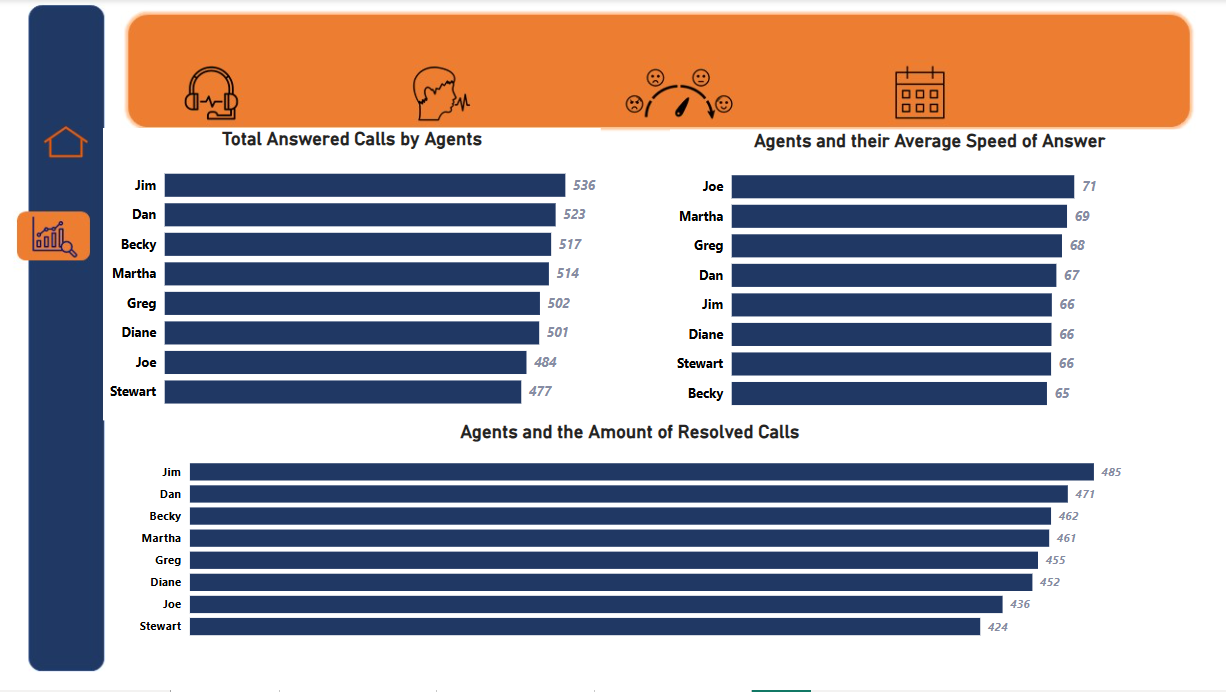

This screenshot's page, from the dashboard's own definition file:
{"tool":"powerbi","page":{"name":" Dashboard1","canvas":[1280,720],"ordinal":1},"visuals":[{"type":"barChart","title":"Total Answered Calls by Agents","fields":{"Category":["Sheet1.Agent"],"Y":["Sheet1.Total Answered Calls"]},"box":[109.4,134.4,518.9,304.8],"z":0},{"type":"barChart","title":"Agents and their Average Speed of Answer ","fields":{"Category":["Sheet1.Agent"],"Y":["Sheet1.Average Speed of Answer in Seconds"]},"box":[700.2,136,540.8,304.8],"z":1000},{"type":"barChart","title":"Agents and the Amount of Resolved Calls ","fields":{"Category":["Sheet1.Agent"],"Y":["CountNonNull(Sheet1.Resolved)"]},"box":[140.1,439.1,1035.2,238.5],"z":2000}]}

Visuals, with their boxes on the page's 1280x720 design canvas (x1, y1, x2, y2). These are canvas units, not pixel positions in the 1226x692 screenshot, which may show the page scaled, cropped or inside an application window:
"Total Answered Calls by Agents" barChart: {"x1": 109, "y1": 134, "x2": 628, "y2": 439}
"Agents and their Average Speed of Answer " barChart: {"x1": 700, "y1": 136, "x2": 1241, "y2": 441}
"Agents and the Amount of Resolved Calls " barChart: {"x1": 140, "y1": 439, "x2": 1175, "y2": 678}
